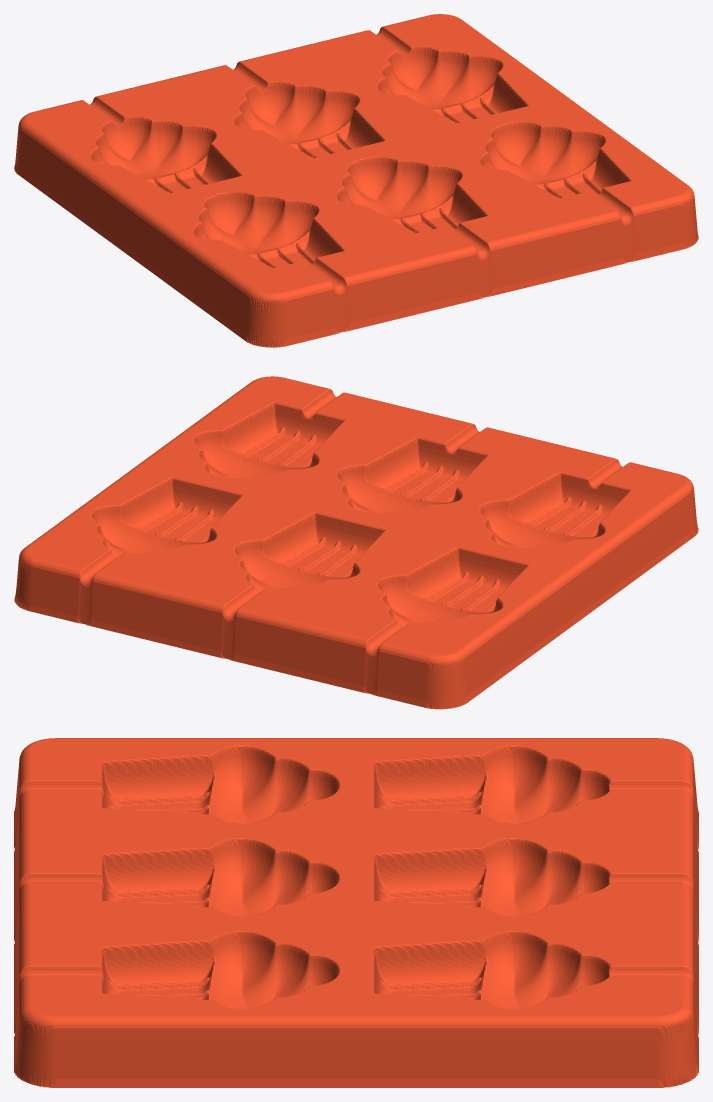
Rendered from mold.glb.
3 renders of one model, top to bottom at view 1: azimuth 30°, elevation 25°; view 2: azimuth 150°, elevation 25°; view 3: azimuth 270°, elevation 25°, orthographic. The views are drawn at different scales.
Parts seen in each view (by area): view 1: geometry_0; view 2: geometry_0; view 3: geometry_0.
Boxes of the visible parts, left/top/right/bottom form: geometry_0: left=14, top=14, right=698, bottom=347; geometry_0: left=14, top=376, right=698, bottom=709; geometry_0: left=14, top=738, right=698, bottom=1087.
Bounding box in the file's own units: 0.1483 × 0.0155 × 0.1477.
